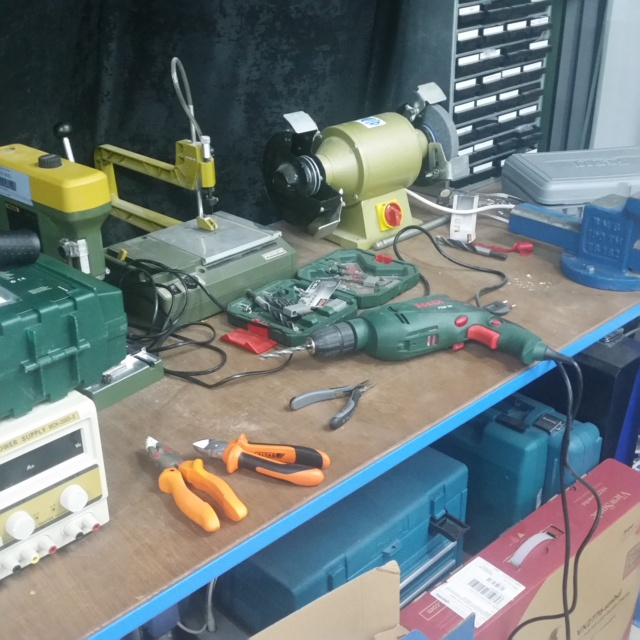drill: (257, 288, 569, 361)
